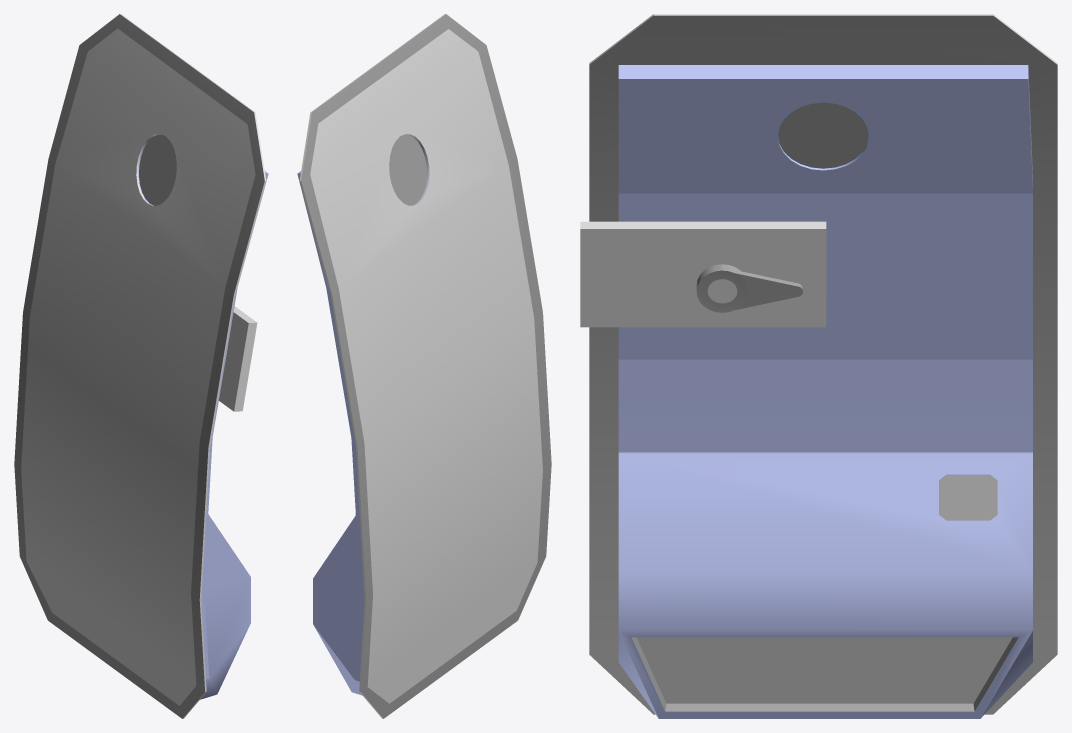
The model's file is Door.gltf.
3 renders of one model, left to right at view 1: azimuth 30°, elevation 25°; view 2: azimuth 150°, elevation 25°; view 3: azimuth 270°, elevation 25°, orthographic. The views are drawn at different scales.
Parts seen in each view (by area): view 1: Door_MESH; view 2: Door_MESH; view 3: Door_MESH.
Part boxes in pixels (left/top/right/bottom): Door_MESH: left=14, top=14, right=268, bottom=718; Door_MESH: left=297, top=14, right=551, bottom=718; Door_MESH: left=580, top=14, right=1057, bottom=718.
Bounding box in the file's own units: 0.2767 × 1.91 × 1.11.
